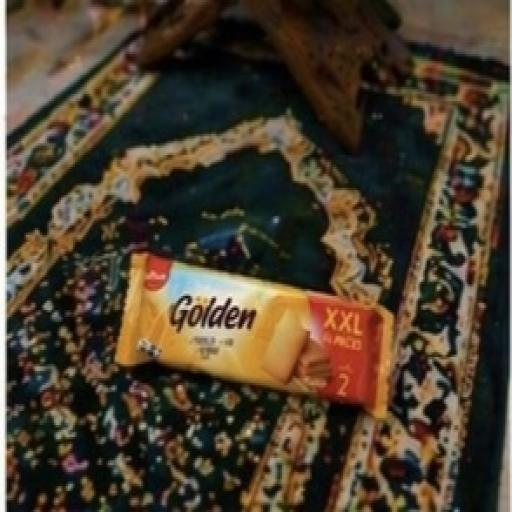golden: (104, 184, 428, 453)
